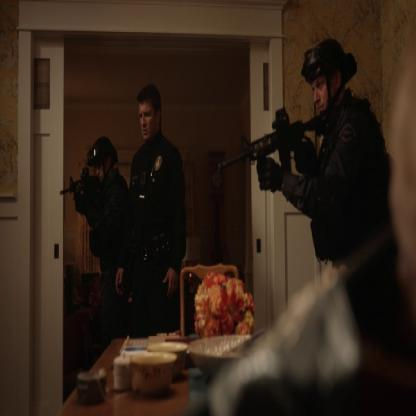Guns: (217, 100, 333, 204), (59, 164, 100, 209)
